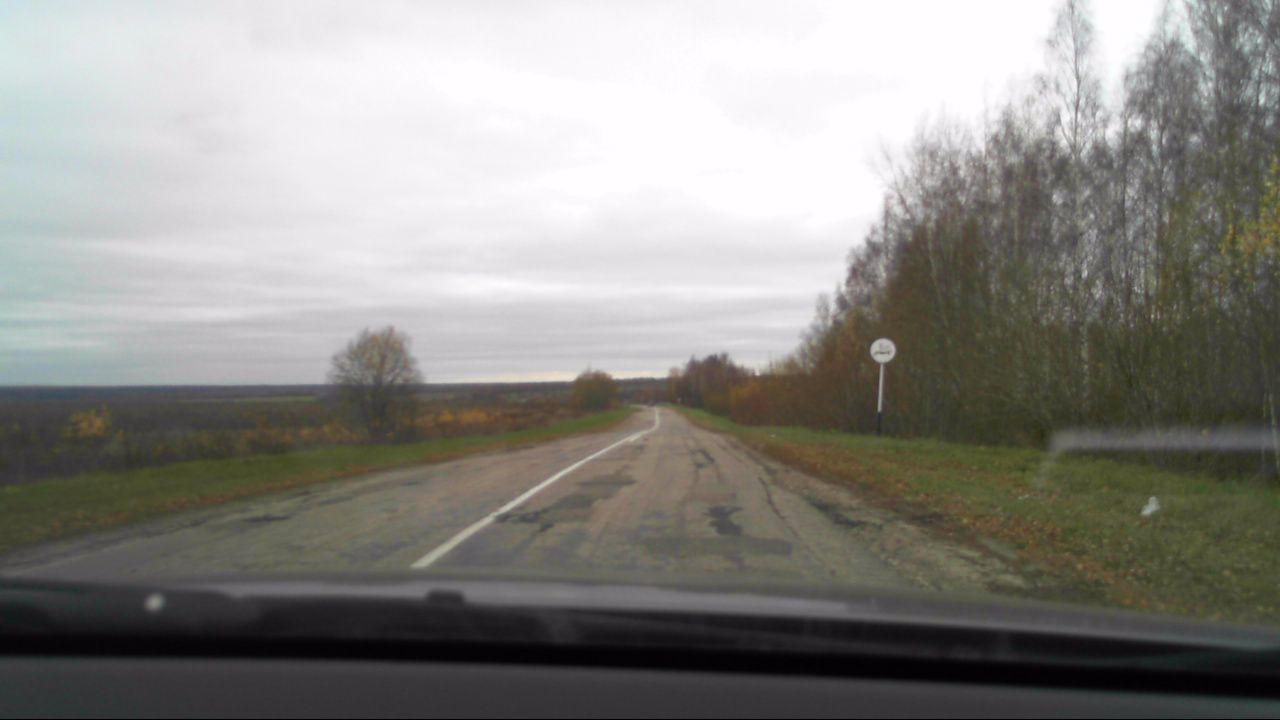3_12: (870, 337, 896, 363)
